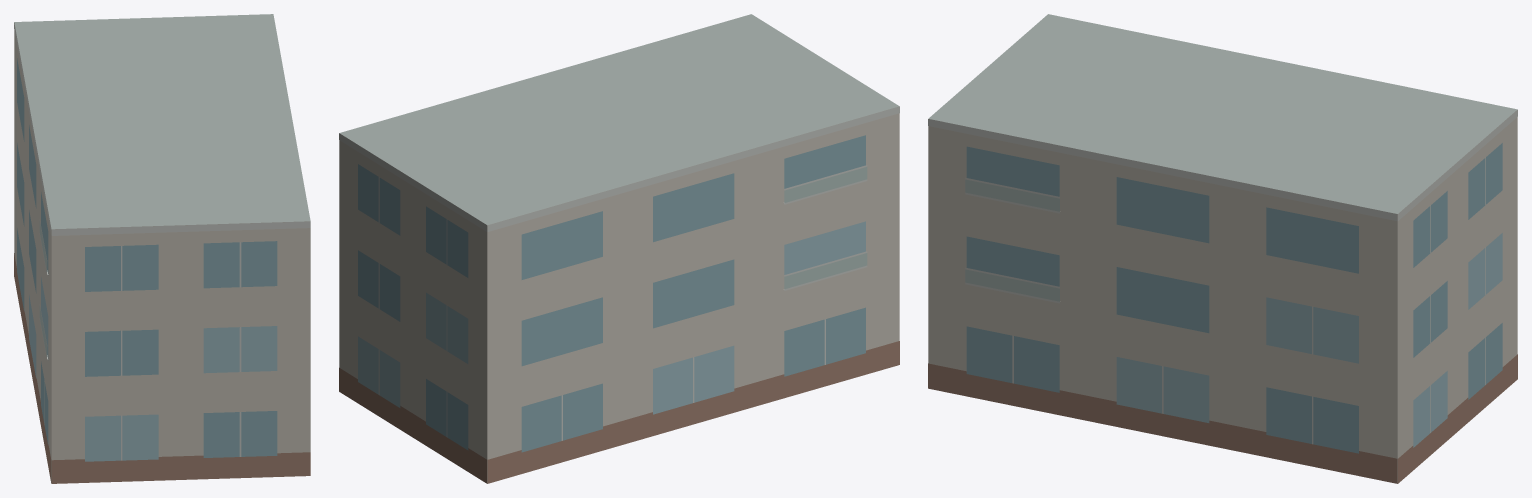
File: survey-upis-32705010.glb
The picture shows the model from 3 angles, left to right: view 1: azimuth 30°, elevation 25°; view 2: azimuth 150°, elevation 25°; view 3: azimuth 270°, elevation 25°; orthographic projection. The views are drawn at different scales.
Visible parts, largest first — view 1: survey-upis-32705010.tmp; view 2: survey-upis-32705010.tmp; view 3: survey-upis-32705010.tmp.
Boxes of the visible parts, box(x1,y1,x2,y2) form: survey-upis-32705010.tmp: box(14, 14, 310, 483); survey-upis-32705010.tmp: box(339, 14, 899, 483); survey-upis-32705010.tmp: box(928, 14, 1517, 483).
Size of the model in its own units: 14.56 by 9.15 by 18.13.
